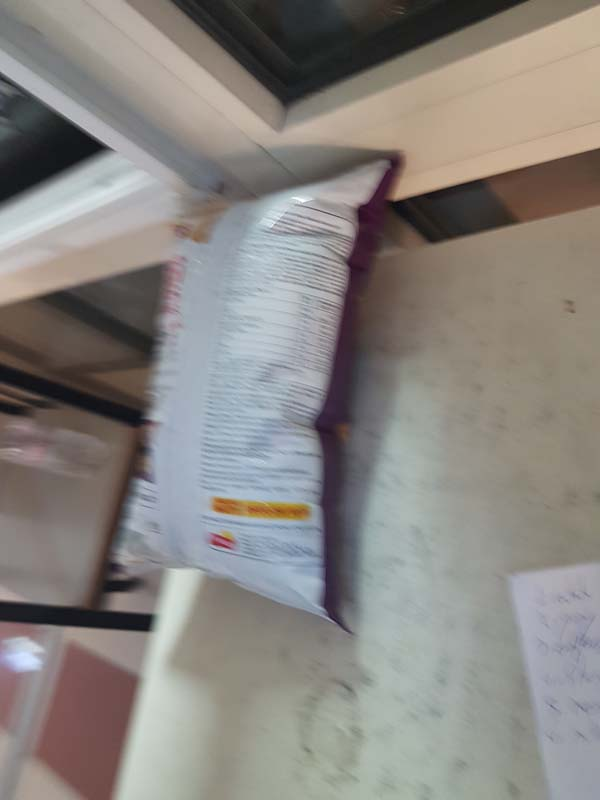layspeynirsoslu: (104, 153, 404, 628)
